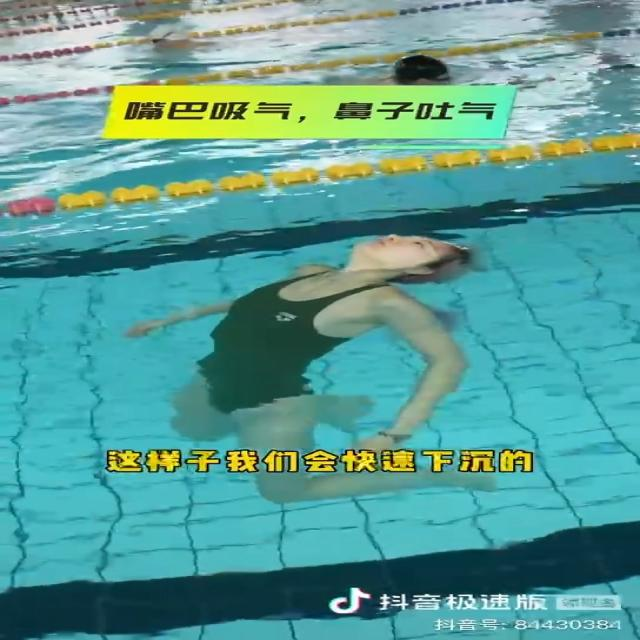Drowning: (130, 232, 502, 497)
